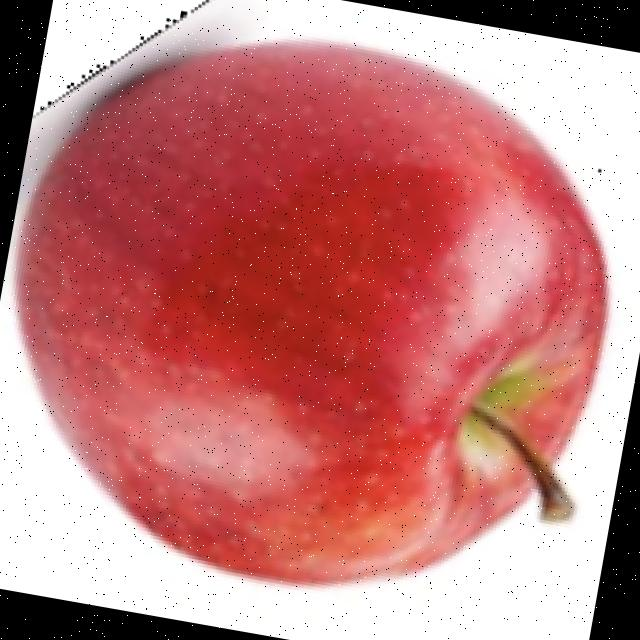apple: (4, 9, 617, 595)
